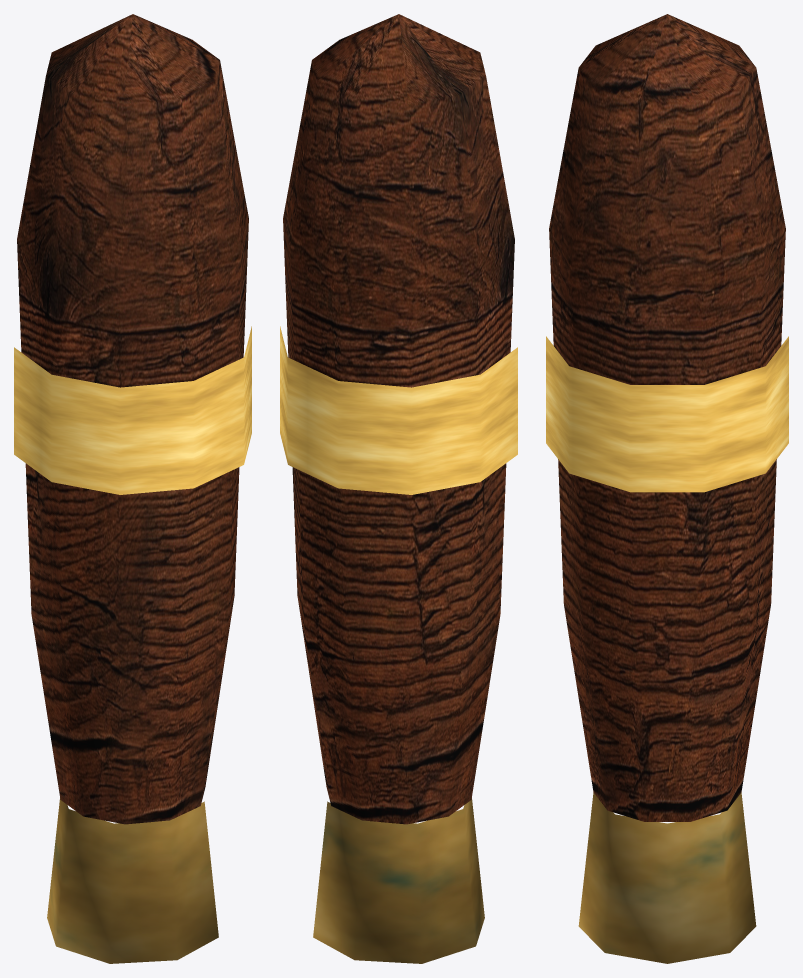
Rendered from sp_tap.glb.
The picture shows the model from 3 angles, left to right: view 1: azimuth 30°, elevation 25°; view 2: azimuth 150°, elevation 25°; view 3: azimuth 270°, elevation 25°; orthographic projection.
Visible parts, largest first — view 1: spire; view 2: spire; view 3: spire.
Boxes of the visible parts, x1,y1,x2,y2 form: spire: [14, 14, 251, 963]; spire: [280, 14, 517, 963]; spire: [546, 14, 788, 963].
Bounding box in the file's own units: 0.078 × 0.34 × 0.082.
Materials: 3 (3 with a texture image).
